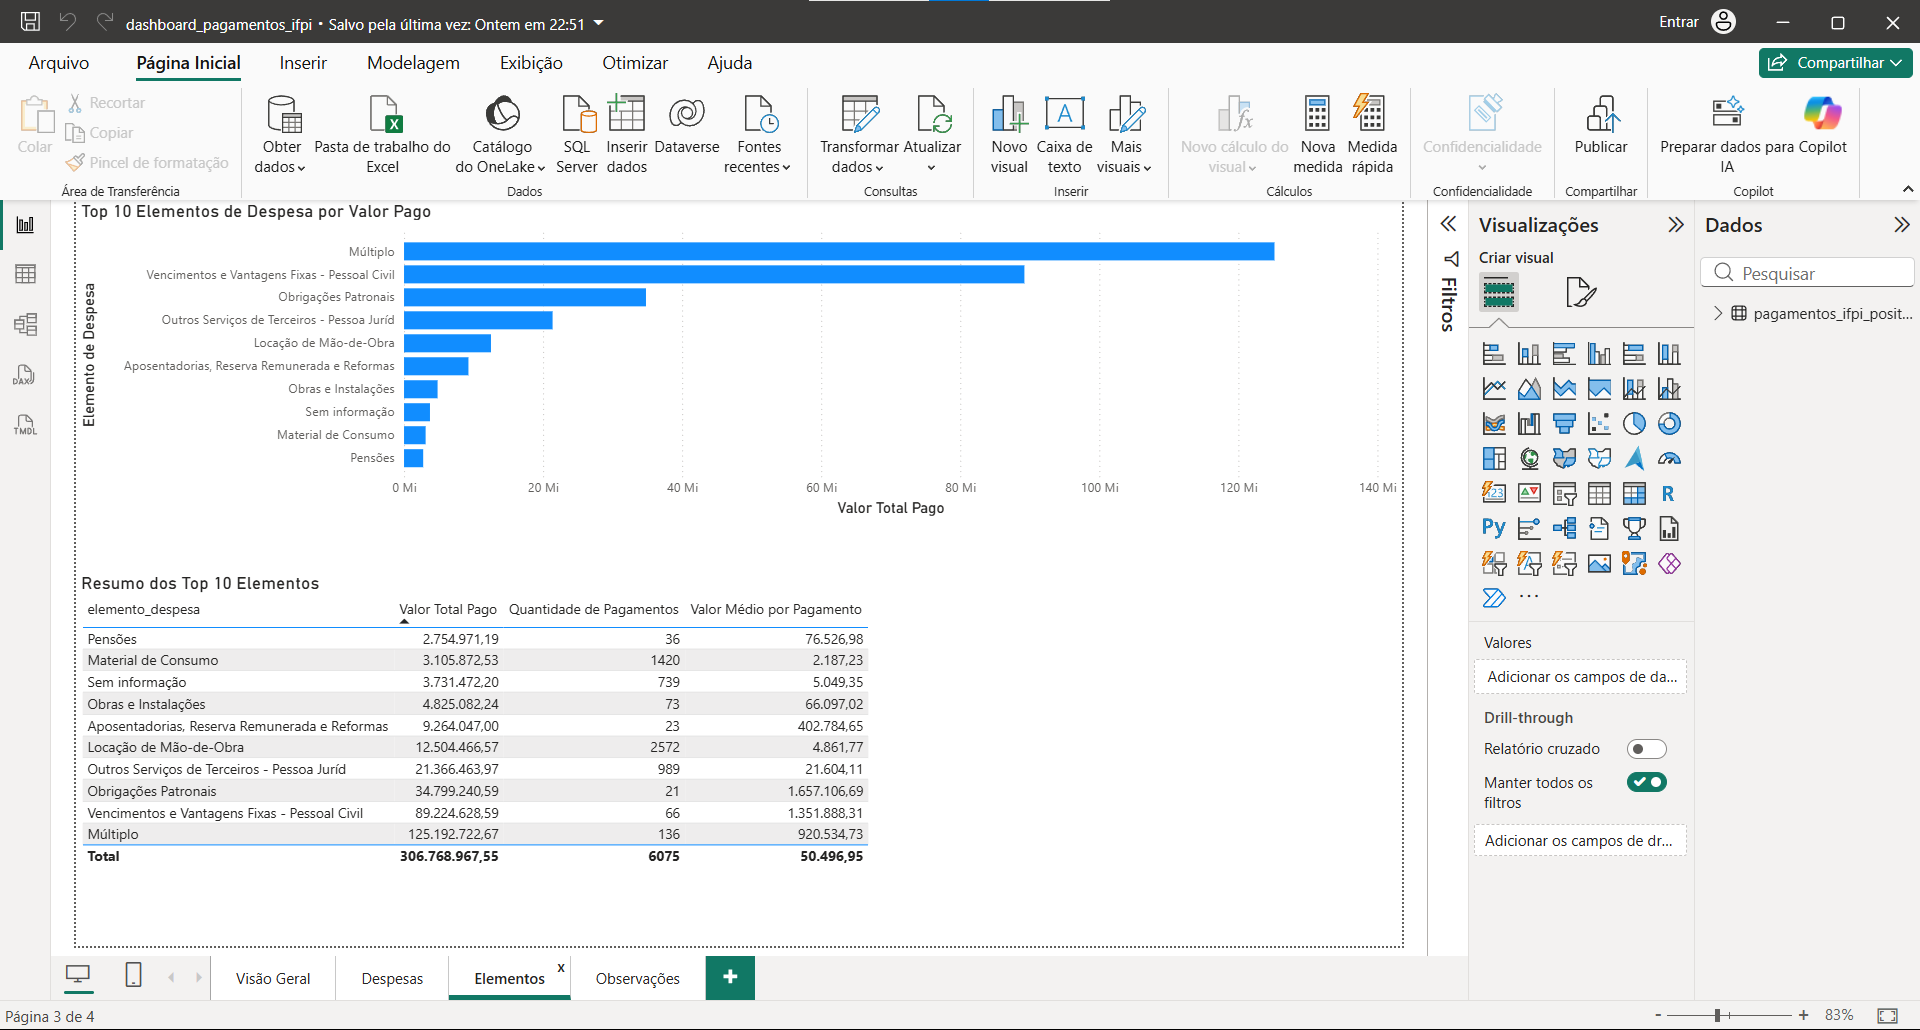

This screenshot's page, from the dashboard's own definition file:
{"tool":"powerbi","page":{"name":"Elementos","canvas":[1280,720],"ordinal":2},"visuals":[{"type":"clusteredBarChart","title":"Top 10 Elementos de Despesa por Valor Pago","fields":{"Category":["pagamentos_ifpi_positivos.elemento_despesa"],"Y":["pagamentos_ifpi_positivos.Valor Total Pago"]},"box":[0,0,1280.3,310.1],"z":0},{"type":"tableEx","title":"Resumo dos Top 10 Elementos","fields":{"Values":["pagamentos_ifpi_positivos.elemento_despesa","pagamentos_ifpi_positivos.Valor Total Pago","pagamentos_ifpi_positivos.Quantidade de Pagamentos","pagamentos_ifpi_positivos.Valor Médio por Pagamento"]},"box":[0,359.5,773.3,313.7],"z":1000}]}

Visuals, with their boxes on the page's 1280x720 design canvas (x1, y1, x2, y2). These are canvas units, not pixel positions in the 1920x1030 screenshot, which may show the page scaled, cropped or inside an application window:
"Top 10 Elementos de Despesa por Valor Pago" clusteredBarChart: <box>0,0,1280,310</box>
"Resumo dos Top 10 Elementos" tableEx: <box>0,360,773,673</box>
